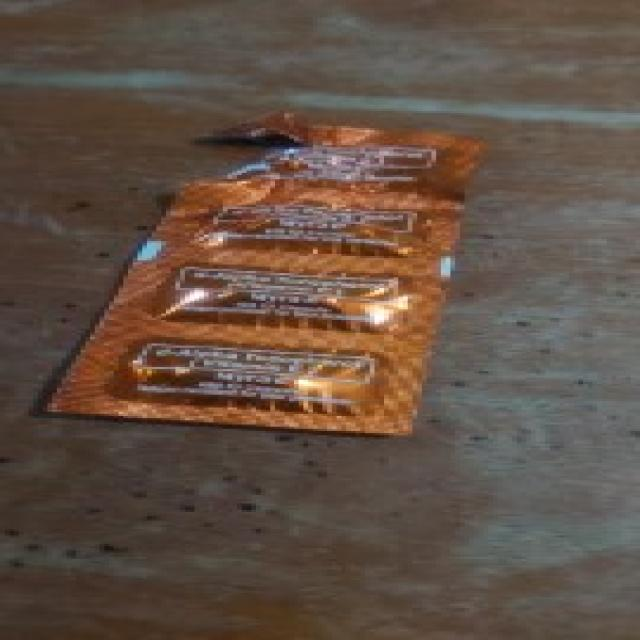Cacat: (26, 108, 492, 436)
Kemasan: (169, 114, 351, 194)
